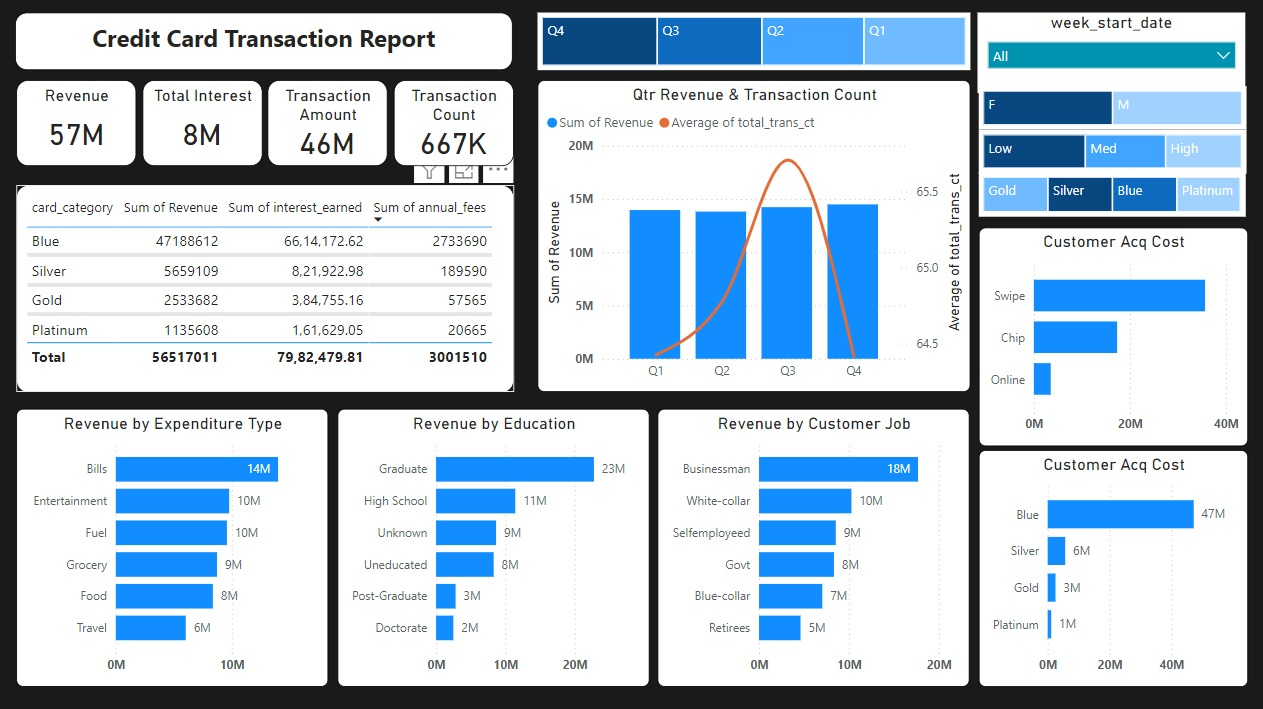

Layout of this report page (visuals, bound fields, positions):
{"tool":"powerbi","page":{"name":"Credit Card Transcition Report","canvas":[1280,720],"ordinal":0},"visuals":[{"type":"textbox","box":[15.7,12.9,504.3,58.6],"z":0},{"type":"lineClusteredColumnComboChart","title":"Qtr Revenue & Transaction Count","fields":{"Category":["public cc_detail.qtr"],"Y":["Sum(public cc_detail.Revenue)"],"Y2":["Avg(public cc_detail.total_trans_ct)"]},"box":[543.8,81.2,438.8,316.2],"z":1000},{"type":"barChart","title":"Revenue by Expenditure Type","fields":{"Y":["Sum(public cc_detail.Revenue)"],"Category":["public cc_detail.exp_type"]},"box":[16.2,413.8,316.2,281.2],"z":2000},{"type":"barChart","title":"Customer Acq Cost","fields":{"Y":["Sum(public cc_detail.Revenue)"],"Category":["public cc_detail.card_category"]},"box":[991.4,455.7,272.9,240],"z":3000},{"type":"barChart","title":"Customer Acq Cost","fields":{"Y":["Sum(public cc_detail.Revenue)"],"Category":["public cc_detail.use_chip"]},"box":[991.2,230,272.5,221.2],"z":4000},{"type":"tableEx","fields":{"Values":["public cc_detail.card_category","Sum(public cc_detail.Revenue)","Sum(public cc_detail.interest_earned)","Sum(public cc_detail.annual_fees)"]},"box":[16.2,187.5,503.8,210],"z":5000},{"type":"card","title":"Transaction Count","fields":{"Values":["Sum(public cc_detail.total_trans_ct)"]},"box":[398.8,81.5,121.2,87.5],"z":6000},{"type":"slicer","title":"week_start_date","fields":{"Values":["public cc_detail.week_start_date"]},"box":[990,12.9,271.4,81.4],"z":7000},{"type":"treemap","fields":{"Group":["public cc_detail.qtr"],"Values":["Avg(public cc_detail.client_num)"]},"box":[544.3,12.9,438.6,58.6],"z":8000},{"type":"treemap","fields":{"Group":["public cust_detail.gender"],"Values":["Avg(public cc_detail.client_num)"]},"box":[991.4,87.1,271.4,44.3],"z":9000},{"type":"treemap","fields":{"Values":["Avg(public cc_detail.client_num)"],"Group":["public cc_detail.card_category"]},"box":[991.2,175,270,45],"z":10000},{"type":"treemap","fields":{"Group":["public cust_detail.IncomeGroup"],"Values":["Sum(public cc_detail.client_num)"]},"box":[991.2,131.2,271.2,43.8],"z":11000},{"type":"card","title":"Transaction Amount","fields":{"Values":["Sum(public cc_detail.total_trans_amt)"]},"box":[271.2,81.5,121.2,87.5],"z":12000},{"type":"card","title":"Revenue","fields":{"Values":["Sum(public cc_detail.Revenue)"]},"box":[16.2,81.5,121.2,87.5],"z":13000},{"type":"card","title":"Total Interest","fields":{"Values":["Sum(public cc_detail.interest_earned)"]},"box":[143.8,81.5,121.2,87.5],"z":14000},{"type":"barChart","title":"Revenue by Education","fields":{"Y":["Sum(public cc_detail.Revenue)"],"Category":["public cust_detail.education_level"]},"box":[341.2,413.8,316.2,281.2],"z":15000},{"type":"barChart","title":"Revenue by Customer Job","fields":{"Y":["Sum(public cc_detail.Revenue)"],"Category":["public cust_detail.customer_job"]},"box":[666.2,413.8,316.2,281.2],"z":16000}]}

Visuals, with their boxes in screenshot pixels (x1, y1, x2, y2), scaled from the page's 1280x720 canvas onto the 1263x709 screenshot:
textbox: (left=15, top=13, right=513, bottom=70)
"Qtr Revenue & Transaction Count" lineClusteredColumnComboChart: (left=537, top=80, right=970, bottom=391)
"Revenue by Expenditure Type" barChart: (left=16, top=407, right=328, bottom=684)
"Customer Acq Cost" barChart: (left=978, top=449, right=1248, bottom=685)
"Customer Acq Cost" barChart: (left=978, top=226, right=1247, bottom=444)
tableEx - public cc_detail.card_category x Sum(public cc_detail.Revenue): (left=16, top=185, right=513, bottom=391)
"Transaction Count" card: (left=394, top=80, right=513, bottom=166)
"week_start_date" slicer: (left=977, top=13, right=1245, bottom=93)
treemap - public cc_detail.qtr x Avg(public cc_detail.client_num): (left=537, top=13, right=970, bottom=70)
treemap - public cust_detail.gender x Avg(public cc_detail.client_num): (left=978, top=86, right=1246, bottom=129)
treemap - Avg(public cc_detail.client_num) x public cc_detail.card_category: (left=978, top=172, right=1244, bottom=217)
treemap - public cust_detail.IncomeGroup x Sum(public cc_detail.client_num): (left=978, top=129, right=1246, bottom=172)
"Transaction Amount" card: (left=268, top=80, right=387, bottom=166)
"Revenue" card: (left=16, top=80, right=136, bottom=166)
"Total Interest" card: (left=142, top=80, right=261, bottom=166)
"Revenue by Education" barChart: (left=337, top=407, right=649, bottom=684)
"Revenue by Customer Job" barChart: (left=657, top=407, right=969, bottom=684)
